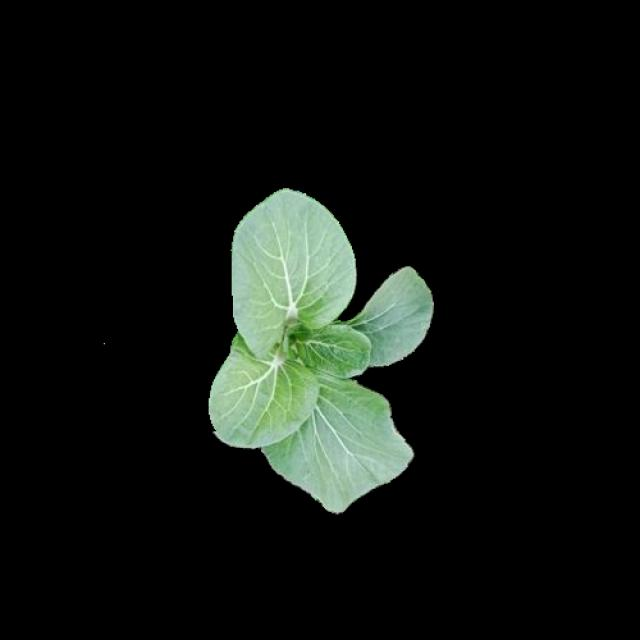healthy: (207, 188, 433, 512)
not-mature: (210, 190, 435, 514)
